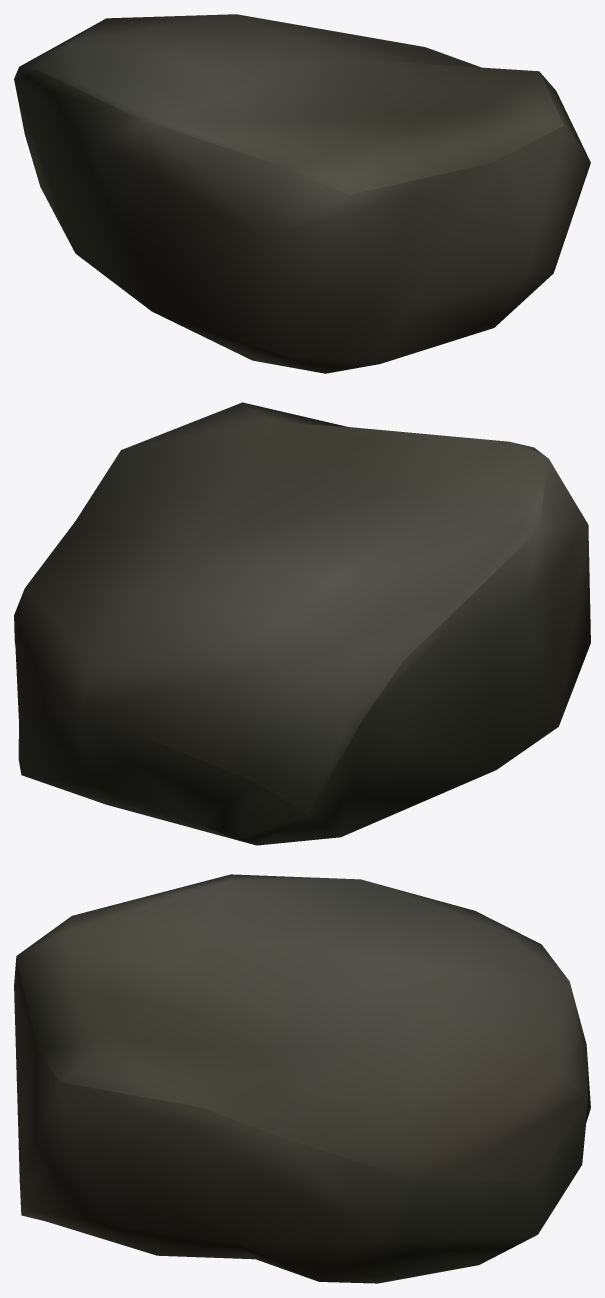
3 renders of one model, top to bottom at view 1: azimuth 30°, elevation 25°; view 2: azimuth 150°, elevation 25°; view 3: azimuth 270°, elevation 25°, orthographic. The views are drawn at different scales.
Parts seen in each view (by area): view 1: smallrock1; view 2: smallrock1; view 3: smallrock1.
Part boxes in pixels (bbox=[...]): smallrock1: bbox=[14, 14, 590, 373]; smallrock1: bbox=[14, 402, 590, 845]; smallrock1: bbox=[14, 874, 590, 1283].
Bounding box in the file's own units: 1.79 × 0.8733 × 2.05.
1 material, 1 textured.
